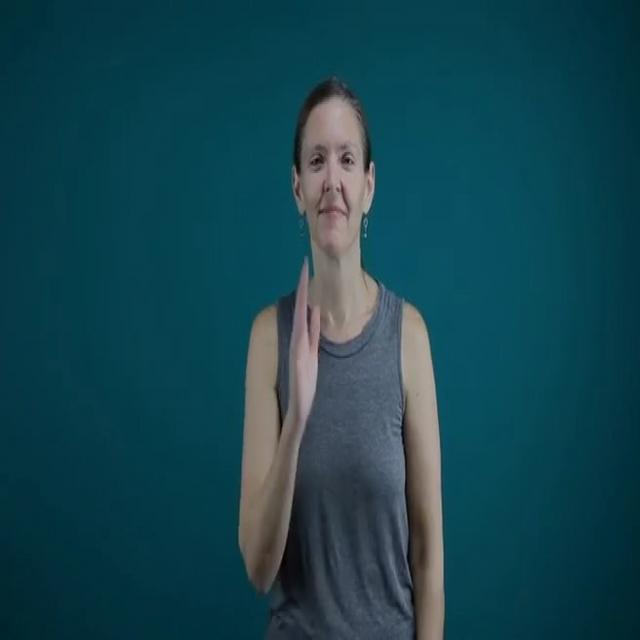napkin: (285, 256, 323, 420)
